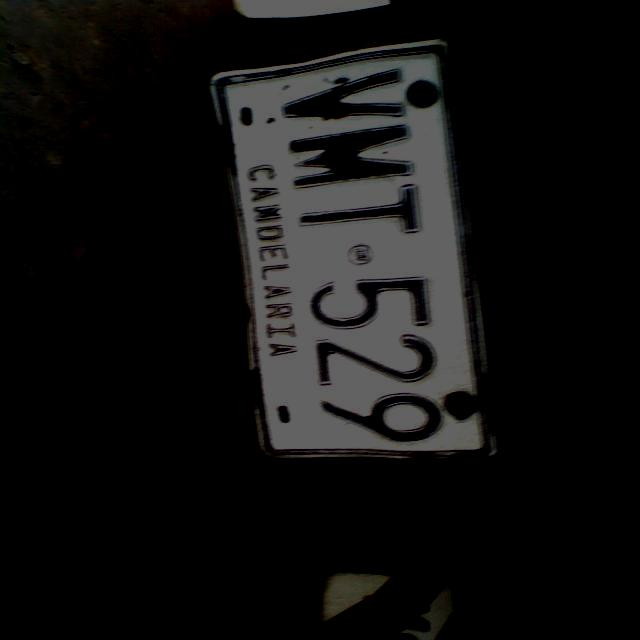servicio_publico: (198, 35, 526, 478)
